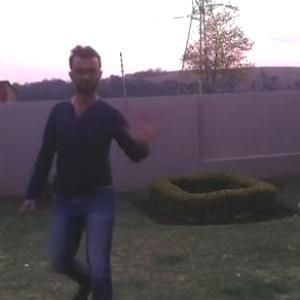follow_hand: (130, 103, 162, 144)
